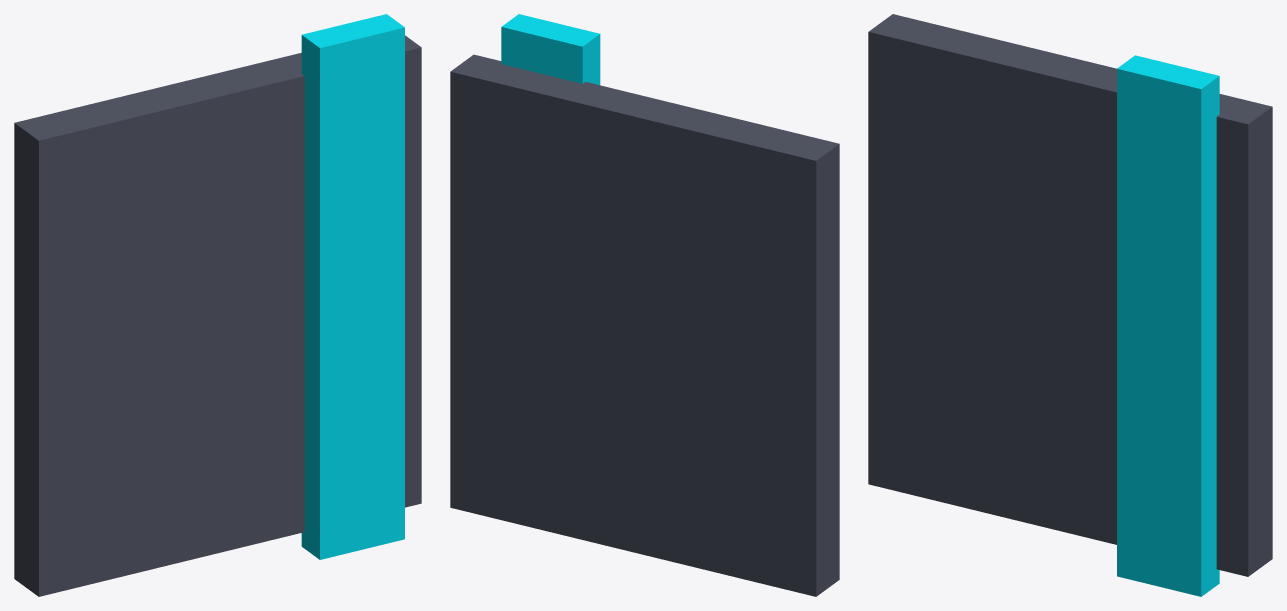
Rendered from cloth-wrap-prototype.glb.
3 renders of one model, left to right at view 1: azimuth 30°, elevation 25°; view 2: azimuth 150°, elevation 25°; view 3: azimuth 330°, elevation 25°, orthographic. The views are drawn at different scales.
Visible parts, largest first — view 1: cloth-torso-panel, cyan-sash; view 2: cloth-torso-panel, cyan-sash; view 3: cloth-torso-panel, cyan-sash.
Boxes of the visible parts, x1,y1,x2,y2 form: cloth-torso-panel: (14, 35, 421, 596); cyan-sash: (301, 14, 404, 559); cloth-torso-panel: (450, 54, 839, 596); cyan-sash: (501, 14, 600, 85); cloth-torso-panel: (868, 14, 1272, 576); cyan-sash: (1117, 55, 1219, 596).
Size of the model in its own units: 0.72 by 0.92 by 0.13.
